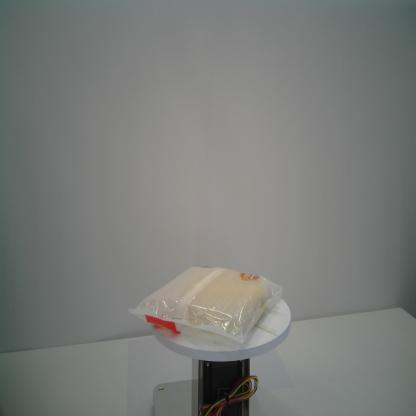Dessert: (126, 262, 288, 344)
